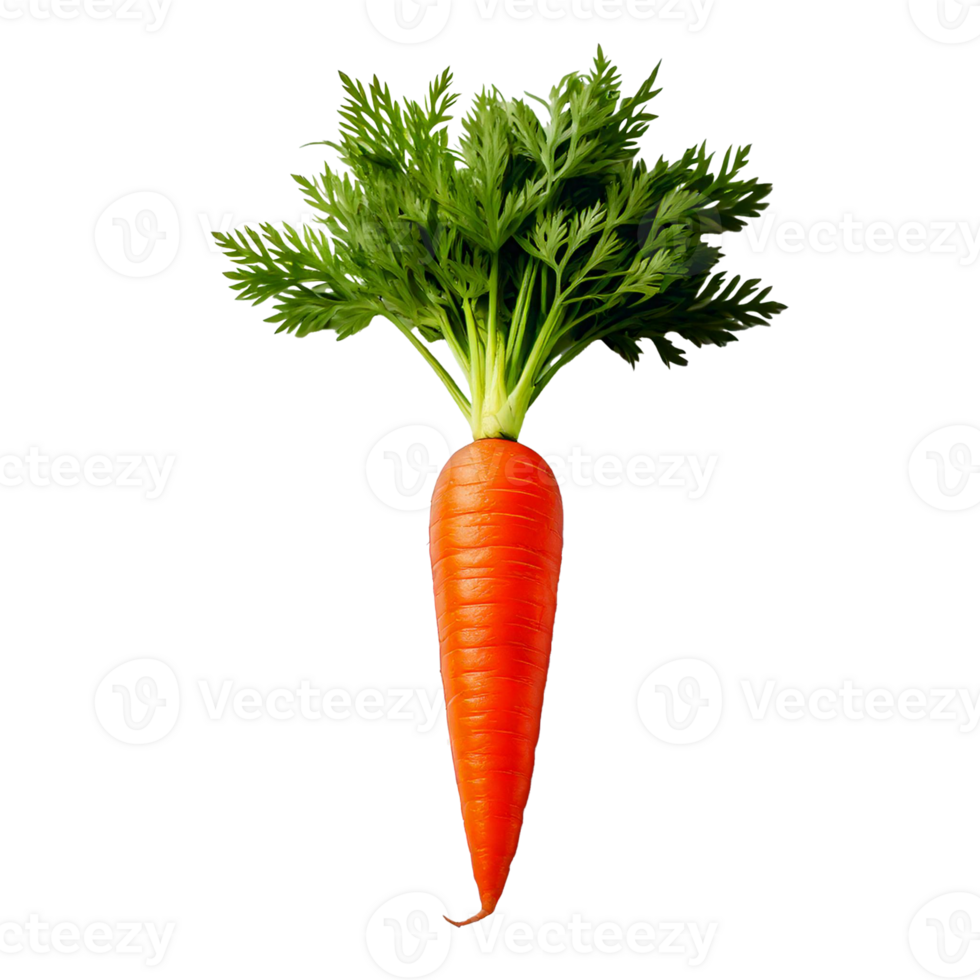carrot: (186, 37, 776, 956)
